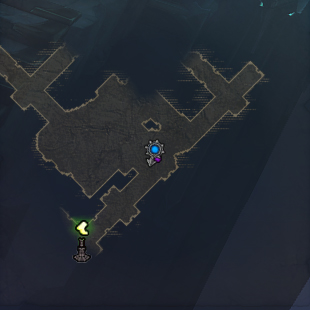SpeedPylon: (73, 218, 91, 264)
